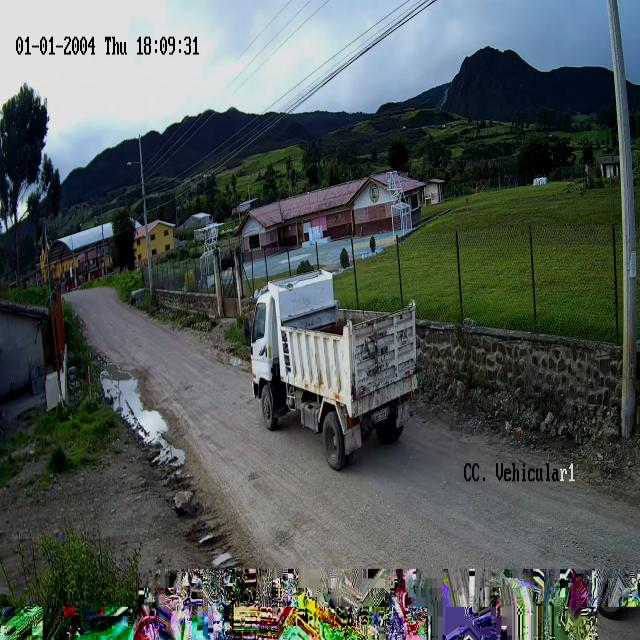TRUCK: (250, 272, 419, 471)
